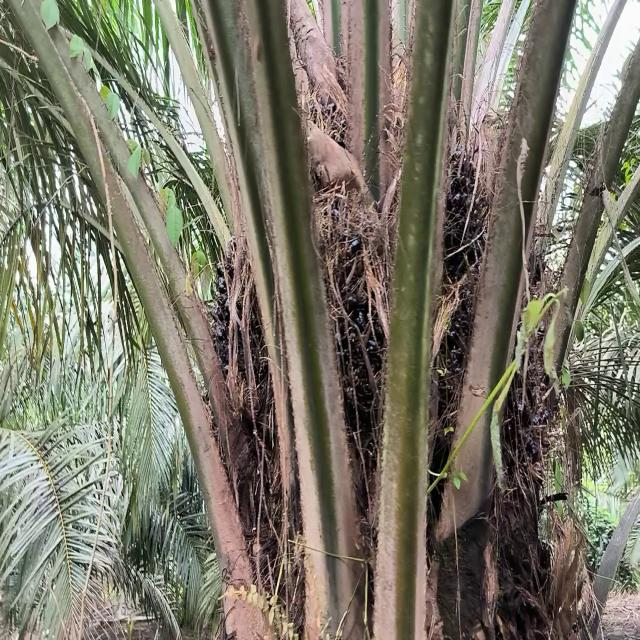palm-oil: (312, 224, 384, 469), (202, 226, 284, 428), (424, 249, 496, 463), (442, 126, 502, 291)
